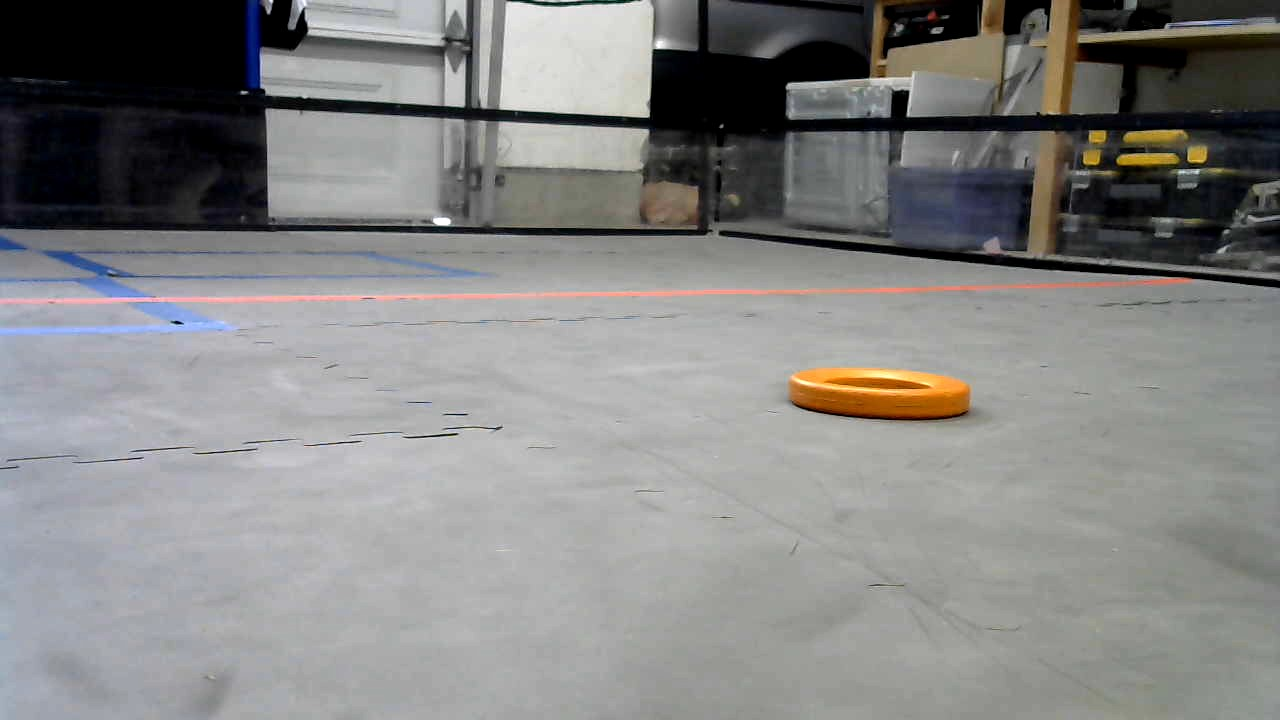OneStack: (790, 364, 969, 421)
